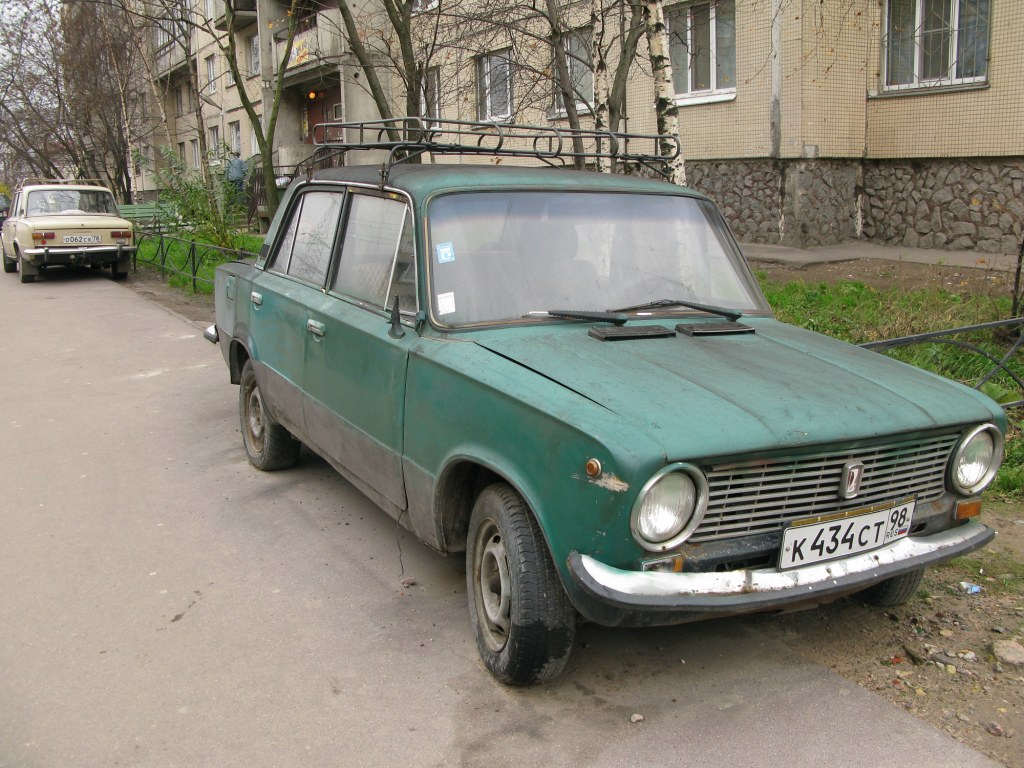car_front: (609, 414, 1008, 630)
car_rear: (27, 219, 134, 266)
plate: (779, 501, 915, 570), (63, 235, 104, 245)
